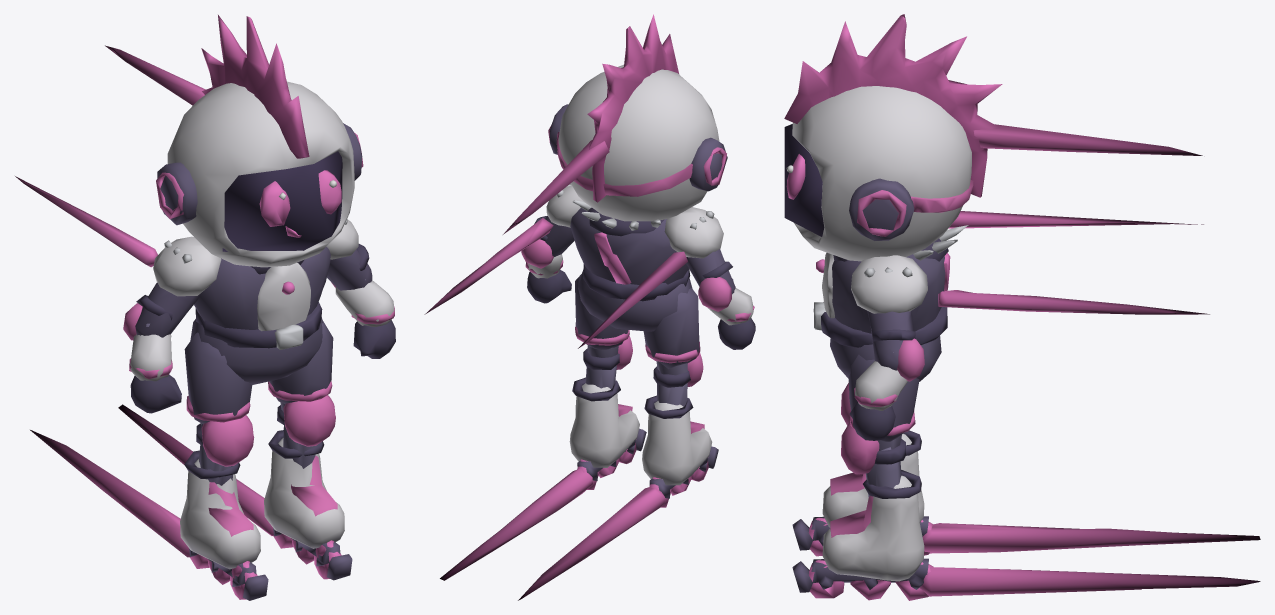
The model's file is roller.glb.
The picture shows the model from 3 angles, left to right: view 1: azimuth 30°, elevation 25°; view 2: azimuth 150°, elevation 25°; view 3: azimuth 270°, elevation 25°; orthographic projection. The views are drawn at different scales.
Parts seen in each view (by area): view 1: head, torso, skate_r, skate_l, pelvis, crest_glow, trail_glow, leg_r, fore_r, trail_up_glow, fore_l, shin_r (+7 smaller); view 2: head, torso, trail_glow, skate_l, skate_r, trail_up_glow, crest_glow, pelvis, leg_r, fore_r, fore_l, leg_l (+7 smaller); view 3: head, trail_glow, crest_glow, skate_l, trail_up_glow, torso, fore_l, skate_r, pelvis, shin_l, arm_l, leg_l (+2 smaller).
Part boxes in pixels (x1,y1,x2,y2): head: (156,81,363,267); torso: (153,219,358,331); skate_r: (180,450,268,600); skate_l: (264,430,352,580); pelvis: (190,302,322,384); crest_glow: (201,15,309,158); trail_glow: (30,404,273,557); leg_r: (184,332,252,431); fore_r: (123,303,181,413); trail_up_glow: (15,45,205,267); fore_l: (331,279,395,358); shin_r: (196,415,254,485); head: (548,64,727,221); torso: (546,183,723,284); trail_glow: (440,468,664,600); skate_l: (569,377,646,480); skate_r: (642,395,718,498); trail_up_glow: (424,140,687,348); crest_glow: (587,14,678,202); pelvis: (578,264,692,331); leg_r: (643,287,700,375); fore_r: (698,277,755,349); fore_l: (521,239,571,303); leg_l: (575,274,629,357); head: (784,86,973,261); trail_glow: (919,523,1260,596); crest_glow: (784,14,1002,197); skate_l: (792,470,928,592); trail_up_glow: (938,124,1209,314); torso: (822,225,968,333); fore_l: (849,338,924,440); skate_r: (792,430,928,550); pelvis: (813,302,947,381); shin_l: (841,422,905,496); arm_l: (867,311,915,370); leg_l: (848,354,919,450).
Bounding box in the file's own units: 0.4971 × 0.992 × 0.7623.
